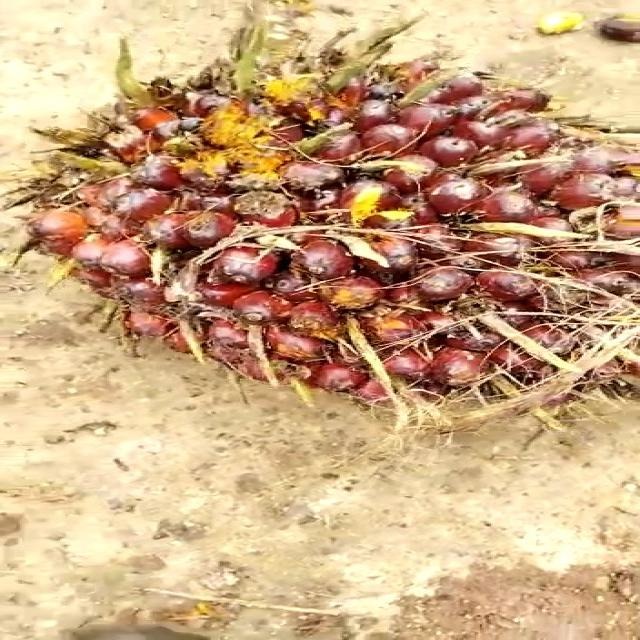palm oil: (26, 34, 640, 432)
